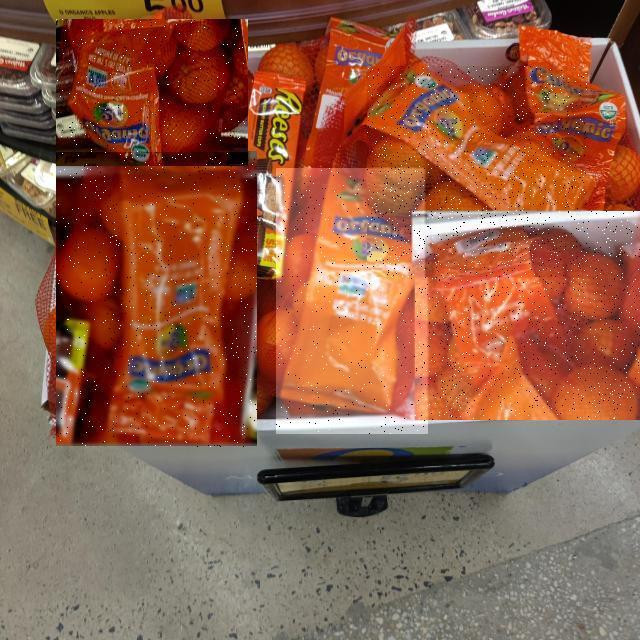Clementine: (56, 152, 257, 448), (415, 211, 640, 420), (368, 66, 588, 277), (276, 169, 428, 435), (57, 19, 249, 166)
